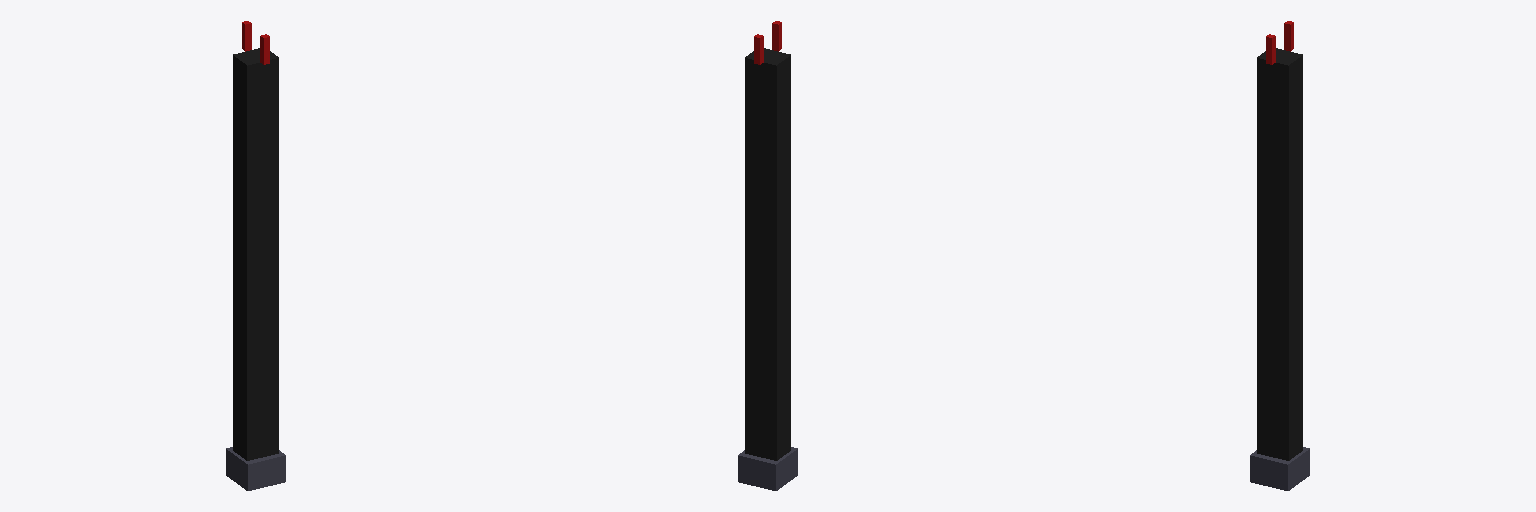
URDF robot description (rav_arm):
<?xml version="1.0" ?>
<!-- =================================================================================== -->
<!-- |    This document was autogenerated by xacro from /home/nathan/rav/robotics_ws/src/rav_arm_moveit_config/config/rav_arm.urdf.xacro | -->
<!-- |    EDITING THIS FILE BY HAND IS NOT RECOMMENDED                                 | -->
<!-- =================================================================================== -->
<robot name="rav_arm">
  <!-- Link raiz fixo — nome diferente de "world" para evitar conflito com o virtual_joint do SRDF -->
  <link name="arm_world"/>
  <material name="pla">
    <color rgba="0.15 0.15 0.15 1.0"/>
  </material>
  <material name="bracket">
    <color rgba="0.30 0.30 0.35 1.0"/>
  </material>
  <material name="finger">
    <color rgba="0.70 0.10 0.10 1.0"/>
  </material>
  <!-- Montagem do braço -->
  <joint name="arm_mount_joint" type="fixed">
    <origin rpy="0 0 0" xyz="0 0 0"/>
    <parent link="arm_world"/>
    <child link="arm_base_link"/>
  </joint>
  <!-- base_link: bracket de fixação -->
  <link name="arm_base_link">
    <visual>
      <origin rpy="0 0 0" xyz="0 0 0.02"/>
      <geometry>
        <box size="0.06 0.06 0.04"/>
      </geometry>
      <material name="bracket"/>
    </visual>
    <collision>
      <origin rpy="0 0 0" xyz="0 0 0.02"/>
      <geometry>
        <box size="0.06 0.06 0.04"/>
      </geometry>
    </collision>
    <inertial>
      <origin rpy="0 0 0" xyz="0 0 0.02"/>
      <mass value="0.3"/>
      <inertia ixx="0.00013" ixy="0.0" ixz="0.0" iyy="0.00013" iyz="0.0" izz="0.00017999999999999998"/>
    </inertial>
  </link>
  <!-- joint_2 = OMBRO (M1) -->
  <joint name="arm_joint_2" type="revolute">
    <origin rpy="0 0 0" xyz="0 0 0.04"/>
    <parent link="arm_base_link"/>
    <child link="arm_link_2"/>
    <axis xyz="-1 0 0"/>
    <limit effort="10.0" lower="-1.5707963267948966" upper="1.5707963267948966" velocity="3.0"/>
  </joint>
  <link name="arm_link_2">
    <visual>
      <origin rpy="0 0 0" xyz="0 0 0.13"/>
      <geometry>
        <box size="0.05 0.04 0.26"/>
      </geometry>
      <material name="pla"/>
    </visual>
    <collision>
      <origin rpy="0 0 0" xyz="0 0 0.13"/>
      <geometry>
        <box size="0.05 0.04 0.26"/>
      </geometry>
    </collision>
    <inertial>
      <origin rpy="0 0 0" xyz="0 0 0.13"/>
      <mass value="0.5"/>
      <inertia ixx="0.0028833333333333337" ixy="0.0" ixz="0.0" iyy="0.0029208333333333334" iyz="0.0" izz="0.00017083333333333333"/>
    </inertial>
  </link>
  <!-- joint_3 = COTOVELO (M2) -->
  <joint name="arm_joint_3" type="revolute">
    <origin rpy="0 0 0" xyz="0 0 0.26"/>
    <parent link="arm_link_2"/>
    <child link="arm_link_3"/>
    <axis xyz="-1 0 0"/>
    <limit effort="10.0" lower="-1.5707963267948966" upper="1.5707963267948966" velocity="3.0"/>
  </joint>
  <link name="arm_link_3">
    <visual>
      <origin rpy="0 0 0" xyz="0 0 0.125"/>
      <geometry>
        <box size="0.05 0.04 0.25"/>
      </geometry>
      <material name="pla"/>
    </visual>
    <collision>
      <origin rpy="0 0 0" xyz="0 0 0.125"/>
      <geometry>
        <box size="0.05 0.04 0.25"/>
      </geometry>
    </collision>
    <inertial>
      <origin rpy="0 0 0" xyz="0 0 0.125"/>
      <mass value="0.4"/>
      <inertia ixx="0.002136666666666667" ixy="0.0" ixz="0.0" iyy="0.0021666666666666666" iyz="0.0" izz="0.00013666666666666666"/>
    </inertial>
  </link>
  <!-- joint_4 = PUNHO (M3) -->
  <joint name="arm_joint_4" type="revolute">
    <origin rpy="0 0 0" xyz="0 0 0.25"/>
    <parent link="arm_link_3"/>
    <child link="arm_link_4"/>
    <axis xyz="1 0 0"/>
    <limit effort="10.0" lower="-1.5707963267948966" upper="1.5707963267948966" velocity="3.0"/>
  </joint>
  <link name="arm_link_4">
    <visual>
      <origin rpy="0 0 0" xyz="0 0 0.04"/>
      <geometry>
        <box size="0.05 0.04 0.08"/>
      </geometry>
      <material name="pla"/>
    </visual>
    <collision>
      <origin rpy="0 0 0" xyz="0 0 0.04"/>
      <geometry>
        <box size="0.05 0.04 0.08"/>
      </geometry>
    </collision>
    <inertial>
      <origin rpy="0 0 0" xyz="0 0 0.04"/>
      <mass value="0.3"/>
      <inertia ixx="0.00019999999999999998" ixy="0.0" ixz="0.0" iyy="0.00022250000000000001" iyz="0.0" izz="0.0001025"/>
    </inertial>
  </link>
  <!-- GARRA (M4) -->
  <joint name="arm_gripper_joint_1" type="prismatic">
    <origin rpy="0 0 0" xyz="0 0.025 0.08"/>
    <parent link="arm_link_4"/>
    <child link="arm_gripper_link_1"/>
    <axis xyz="0 1 0"/>
    <limit effort="5.0" lower="0.0" upper="0.03" velocity="0.1"/>
  </joint>
  <joint name="arm_gripper_joint_2" type="prismatic">
    <origin rpy="0 0 0" xyz="0 -0.025 0.08"/>
    <parent link="arm_link_4"/>
    <child link="arm_gripper_link_2"/>
    <axis xyz="0 -1 0"/>
    <limit effort="5.0" lower="0.0" upper="0.03" velocity="0.1"/>
    <mimic joint="arm_gripper_joint_1" multiplier="1.0" offset="0.0"/>
  </joint>
  <link name="arm_gripper_link_1">
    <visual>
      <origin rpy="0 0 0" xyz="0 0 0.02"/>
      <geometry>
        <box size="0.01 0.01 0.04"/>
      </geometry>
      <material name="finger"/>
    </visual>
    <collision>
      <origin rpy="0 0 0" xyz="0 0 0.02"/>
      <geometry>
        <box size="0.01 0.01 0.04"/>
      </geometry>
    </collision>
    <inertial>
      <origin rpy="0 0 0" xyz="0 0 0.02"/>
      <mass value="0.03"/>
      <inertia ixx="4.25e-06" ixy="0.0" ixz="0.0" iyy="4.25e-06" iyz="0.0" izz="5e-07"/>
    </inertial>
  </link>
  <link name="arm_gripper_link_2">
    <visual>
      <origin rpy="0 0 0" xyz="0 0 0.02"/>
      <geometry>
        <box size="0.01 0.01 0.04"/>
      </geometry>
      <material name="finger"/>
    </visual>
    <collision>
      <origin rpy="0 0 0" xyz="0 0 0.02"/>
      <geometry>
        <box size="0.01 0.01 0.04"/>
      </geometry>
    </collision>
    <inertial>
      <origin rpy="0 0 0" xyz="0 0 0.02"/>
      <mass value="0.03"/>
      <inertia ixx="4.25e-06" ixy="0.0" ixz="0.0" iyy="4.25e-06" iyz="0.0" izz="5e-07"/>
    </inertial>
  </link>
  <!-- TCP da garra -->
  <link name="arm_gripper_frame_cp"/>
  <joint name="arm_gripper_frame_joint" type="fixed">
    <origin rpy="0 0 0" xyz="0 0 0.12"/>
    <parent link="arm_link_4"/>
    <child link="arm_gripper_frame_cp"/>
  </joint>
</robot>

--- Facts derived from the render (not from the file) ---
Views: 3 orthographic renders of the robot side by side, from view 1: azimuth 30°, elevation 25°; view 2: azimuth 150°, elevation 25°; view 3: azimuth 330°, elevation 25°.
Model rav_arm with 8 links and 7 joints (3 revolute, 2 prismatic, 2 fixed), rooted at arm_world, posed every joint at zero.
Links seen in each view (by area): view 1: arm_link_2, arm_link_3, arm_link_4, arm_base_link; view 2: arm_link_2, arm_link_3, arm_link_4, arm_base_link; view 3: arm_link_2, arm_link_3, arm_link_4, arm_base_link.
Link boxes in pixels (x1,y1,x2,y2): arm_link_2: [233, 277, 278, 460]; arm_link_3: [233, 109, 278, 286]; arm_link_4: [233, 48, 278, 118]; arm_base_link: [226, 447, 285, 490]; arm_link_2: [745, 277, 790, 460]; arm_link_3: [745, 109, 790, 286]; arm_link_4: [745, 48, 790, 118]; arm_base_link: [738, 447, 797, 490]; arm_link_2: [1257, 277, 1302, 460]; arm_link_3: [1257, 109, 1302, 286]; arm_link_4: [1257, 48, 1302, 118]; arm_base_link: [1250, 447, 1309, 490].
Bounding box of the posed robot: 0.06 × 0.06 × 0.67 m (x, y, z).
Geometry: primitives only (box / cylinder / sphere), no mesh files.
